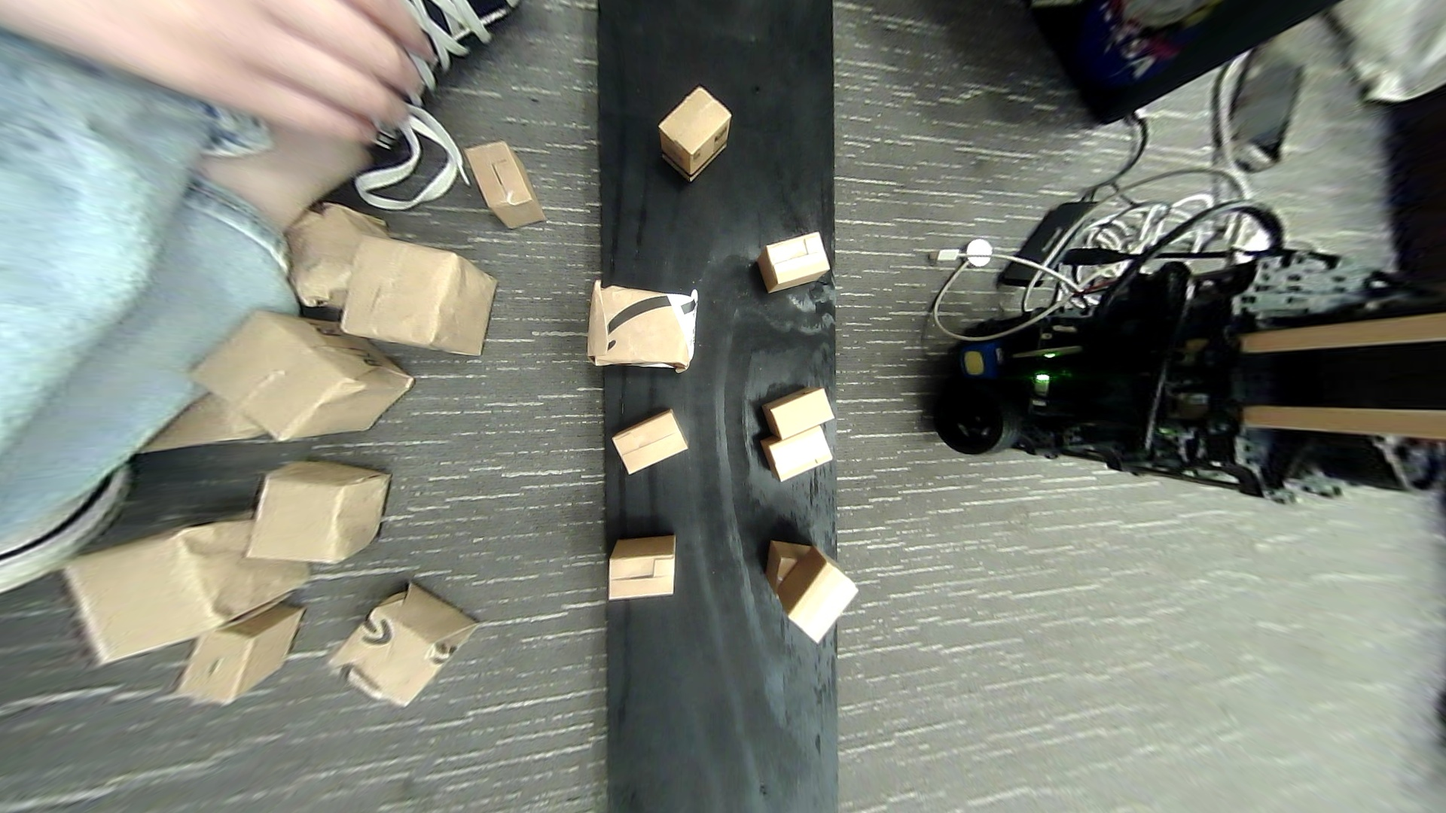empty_space: (604, 638, 703, 808), (749, 666, 838, 808), (747, 13, 828, 120), (599, 0, 680, 61)
package: (587, 277, 693, 373), (764, 537, 859, 635), (655, 93, 730, 181), (604, 408, 697, 474), (599, 536, 676, 596), (758, 227, 830, 290), (770, 423, 832, 483), (760, 382, 826, 429)
poor_spacing: (758, 376, 836, 480)
